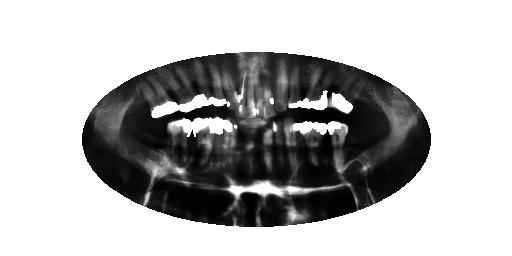i10decay: (229, 125, 246, 173)
i11healthy: (218, 115, 238, 174)
i12decay: (210, 112, 224, 170)
i13decay: (190, 110, 214, 169)
i14decay: (161, 114, 192, 165)
i15loss: (144, 119, 171, 166)
i2loss: (359, 127, 379, 163)
i3loss: (338, 125, 361, 176)
i4loss: (325, 116, 349, 175)
i5decay: (300, 117, 328, 175)
i6decay: (280, 116, 303, 182)
i7decay: (270, 117, 289, 174)
i8decay: (260, 123, 275, 179)
i9decay: (243, 122, 261, 178)
u10healthy: (217, 61, 237, 113)
u11healthy: (203, 60, 227, 109)
u12healthy: (191, 60, 217, 105)
u13healthy: (152, 64, 203, 114)
u14healthy: (131, 74, 181, 121)
u15loss: (118, 84, 152, 127)
u2healthy: (329, 70, 368, 114)
u3healthy: (305, 60, 331, 116)
u4healthy: (281, 57, 309, 109)
u5healthy: (273, 53, 290, 115)
u6healthy: (262, 55, 276, 119)
u7healthy: (253, 58, 265, 119)
u8healthy: (242, 63, 259, 120)
u9decay: (231, 61, 246, 119)
